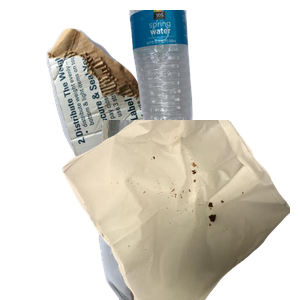cardboard: (44, 26, 209, 186)
glass: (96, 120, 283, 300)
plastic: (127, 10, 300, 134)
trash: (60, 120, 300, 300)
